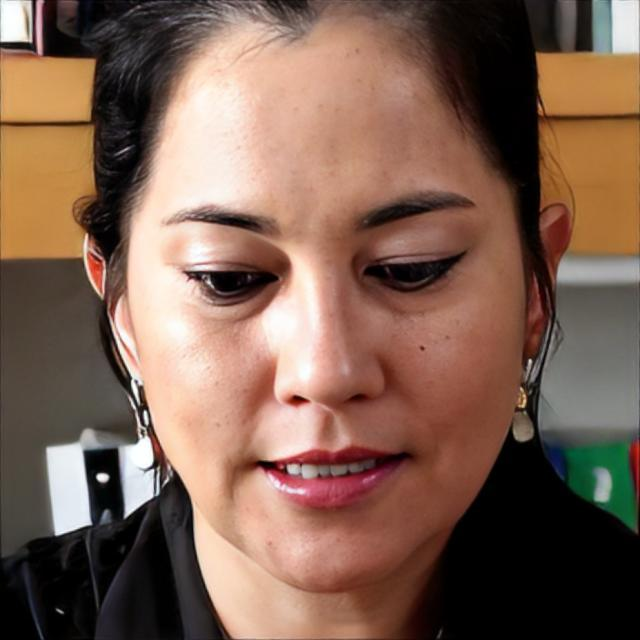neutral: (126, 0, 524, 598)
